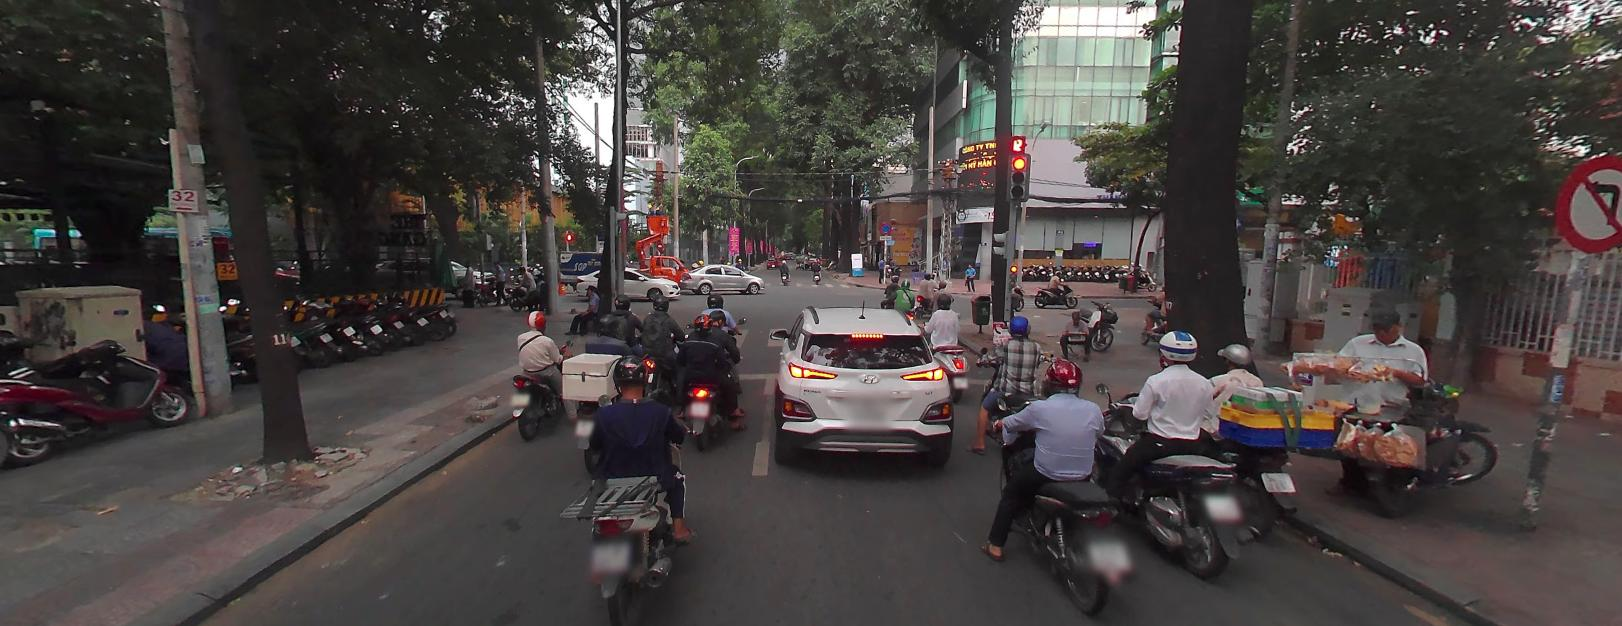Cam dung va do: (879, 221, 891, 233)
Cam re: (1555, 149, 1621, 251)
